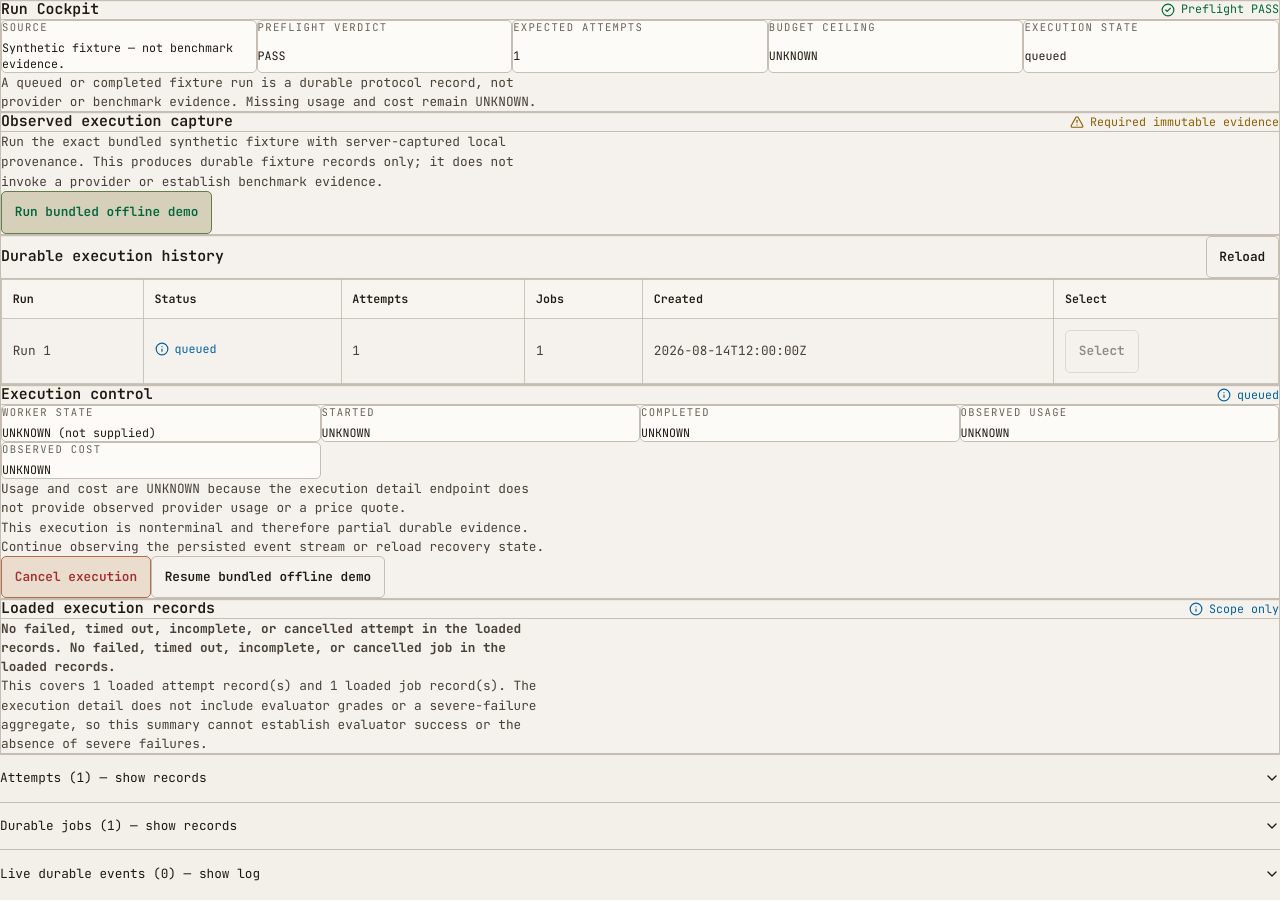
Test: ExecuteSurface › runs the bundled fixture only through the bounded server action after PASS
Click the button "Run bundled offline demo".
click(107, 213)  # box left=1, top=191, right=212, bottom=234
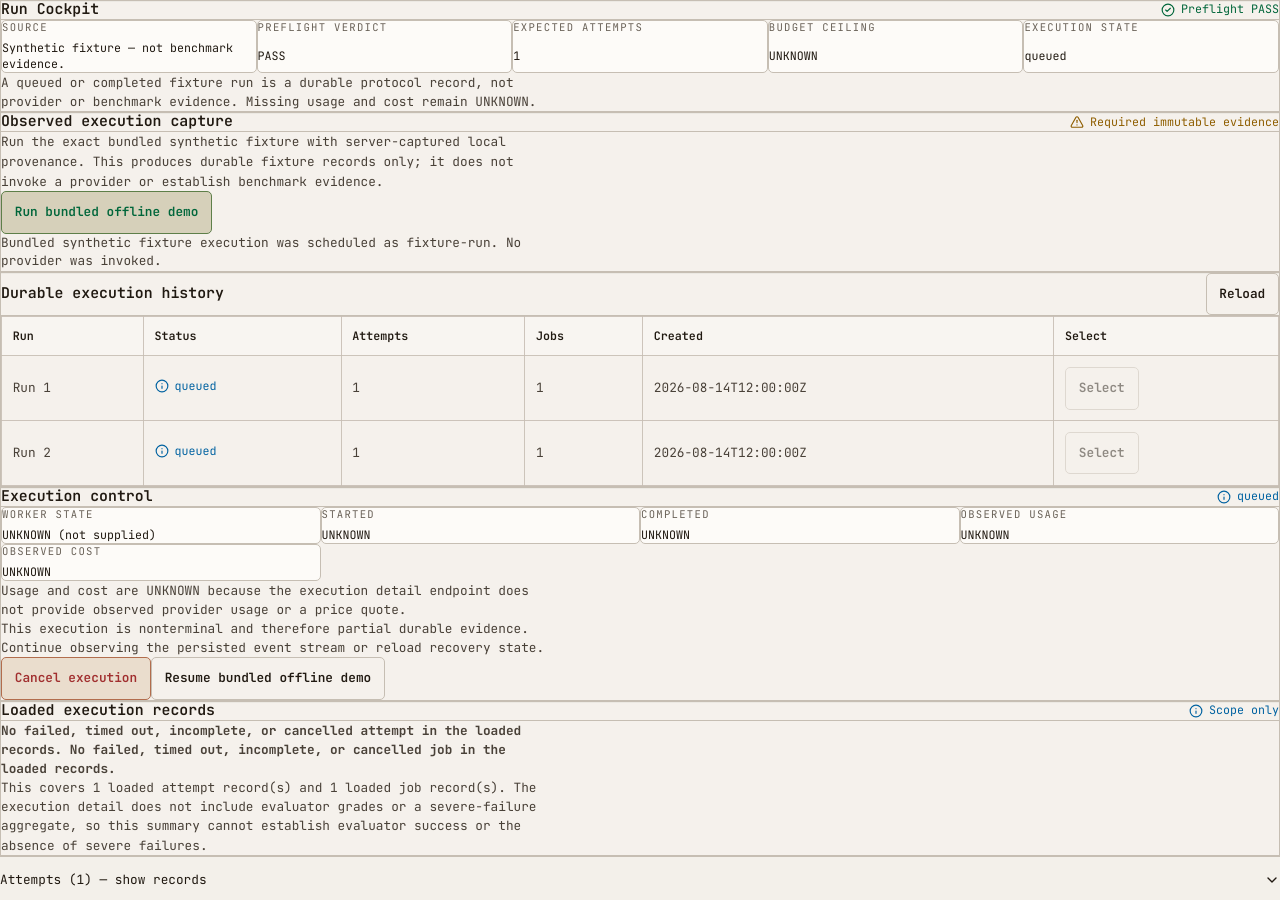
expect the text "No provider was invoked" is shown: met, box left=1, top=234, right=521, bottom=269
